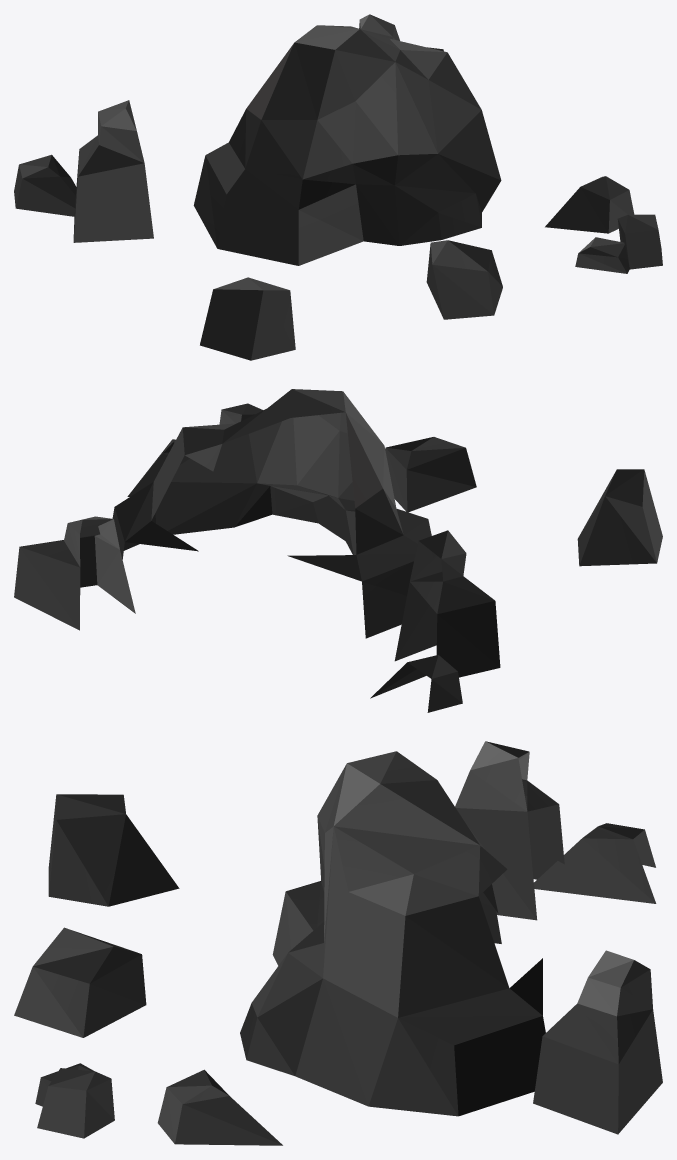
Rendered from forest17.fbx.
3 views of the same model, one above another, from view 1: azimuth 30°, elevation 25°; view 2: azimuth 150°, elevation 25°; view 3: azimuth 270°, elevation 25° (orthographic). The views are drawn at different scales.
Visible parts, largest first — view 1: forest17; view 2: forest17; view 3: forest17.
Boxes of the visible parts, bbox=[...] form: forest17: bbox=[14, 14, 662, 360]; forest17: bbox=[14, 389, 662, 712]; forest17: bbox=[14, 741, 662, 1145].
Size of the model in its own units: 2.97 by 1.14 by 2.81.
Materials: 1 (1 with a texture image).
